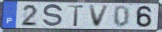0: (113, 5, 131, 28)
2: (21, 4, 39, 28)
6: (136, 5, 154, 29)
S: (42, 3, 65, 28)
T: (68, 5, 86, 28)
V: (88, 5, 112, 28)
